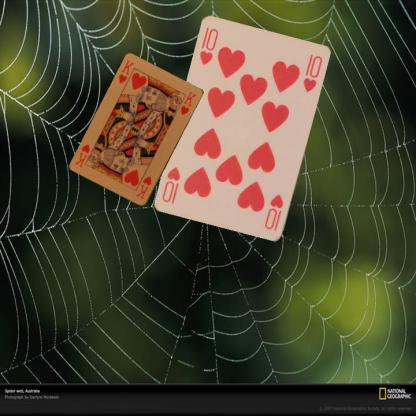10h: (197, 24, 220, 67), (262, 192, 285, 232)
Kh: (116, 58, 136, 85), (134, 174, 152, 200)
